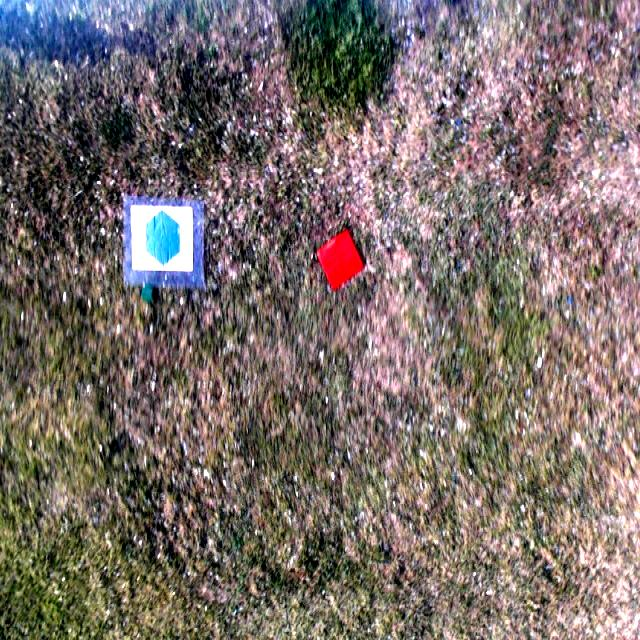blue_hexagon: (146, 210, 180, 265)
red_square: (318, 228, 364, 289)
